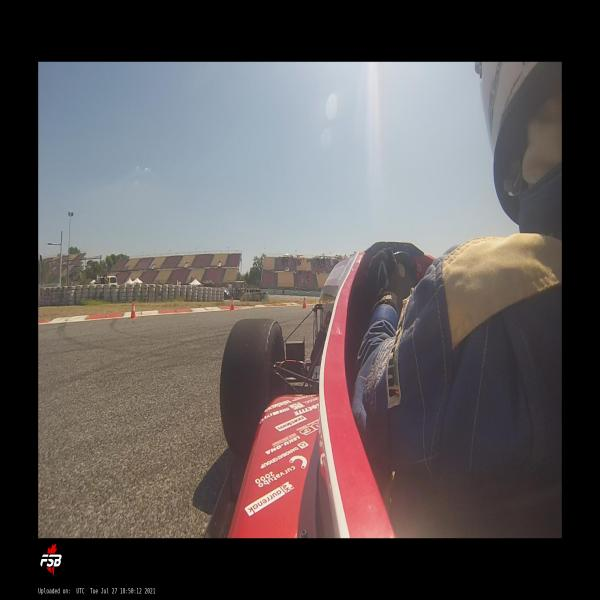orange_cone: (130, 302, 138, 319), (230, 297, 235, 311), (302, 296, 307, 308)
